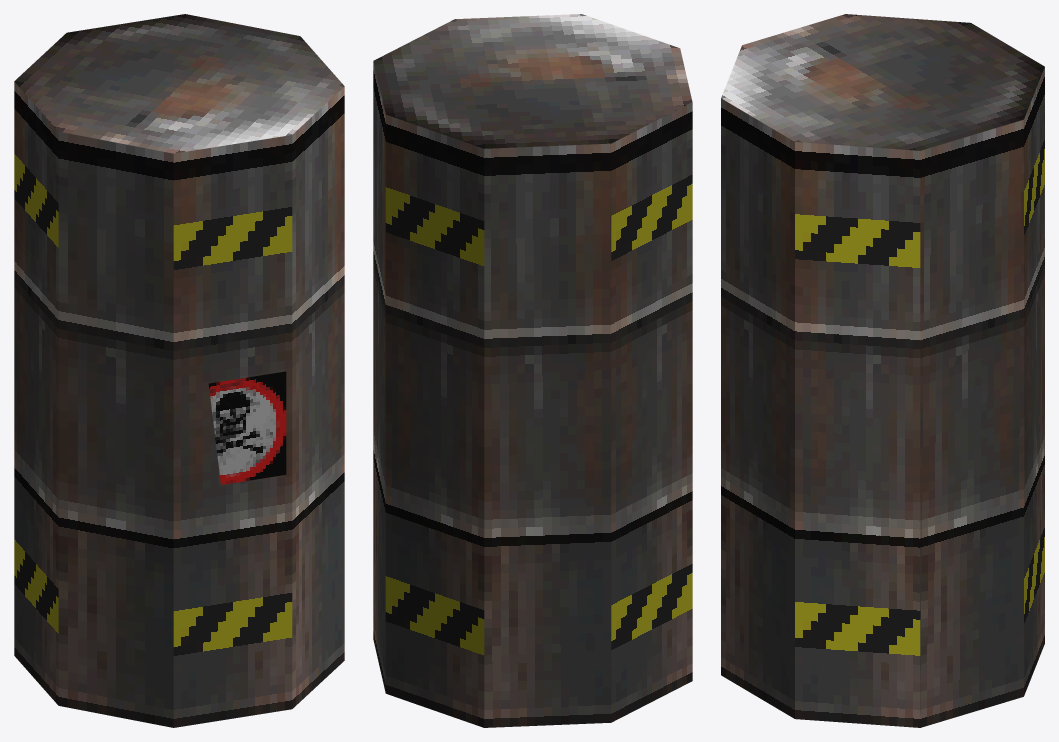
Rendered from primary_061.glb.
3 views of the same model, side by side, from view 1: azimuth 30°, elevation 25°; view 2: azimuth 150°, elevation 25°; view 3: azimuth 270°, elevation 25° (orthographic).
Parts seen in each view (by area): view 1: Object; view 2: Object; view 3: Object.
Part boxes in pixels (x1,y1,x2,y2): Object: (14, 14, 344, 727); Object: (373, 14, 692, 727); Object: (721, 14, 1044, 727).
Bounding box in the file's own units: 0.7606 × 1.5 × 0.7606.
Materials: 9 (9 with a texture image).
